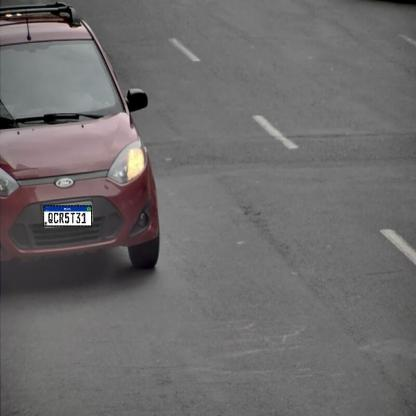PlacaM: (43, 205, 92, 227)
